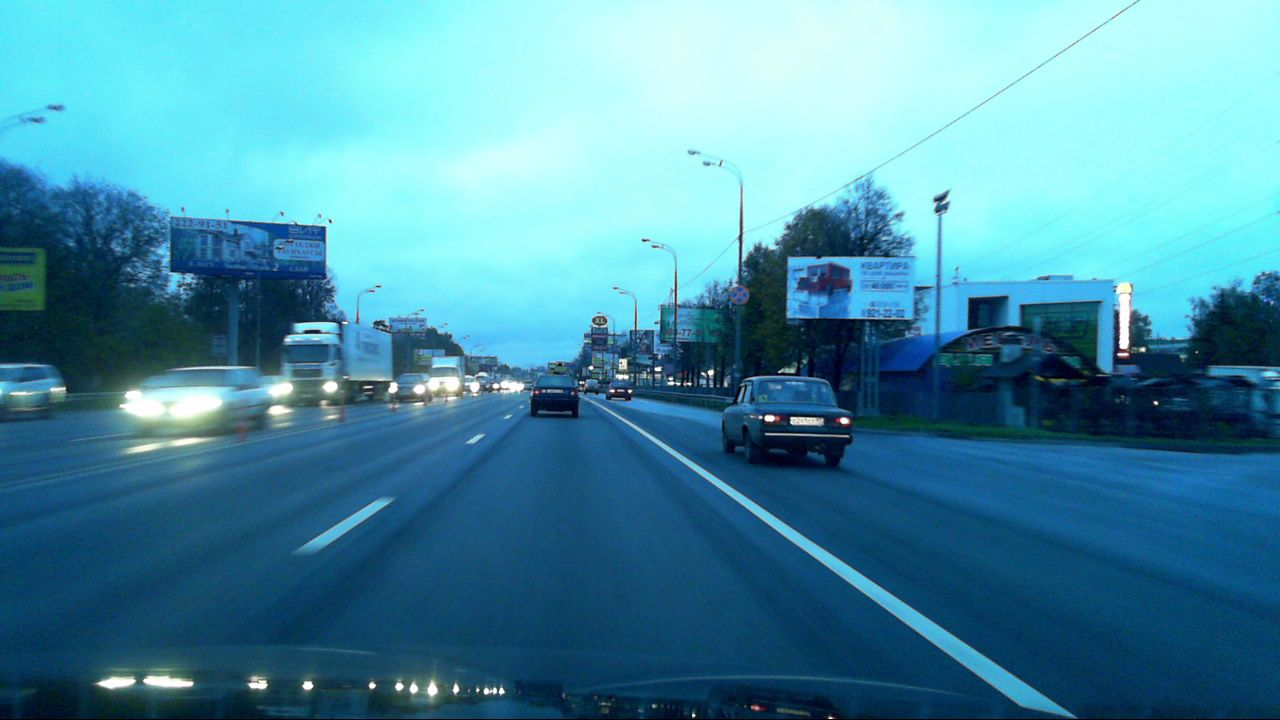No Parking: (730, 285, 749, 305)
